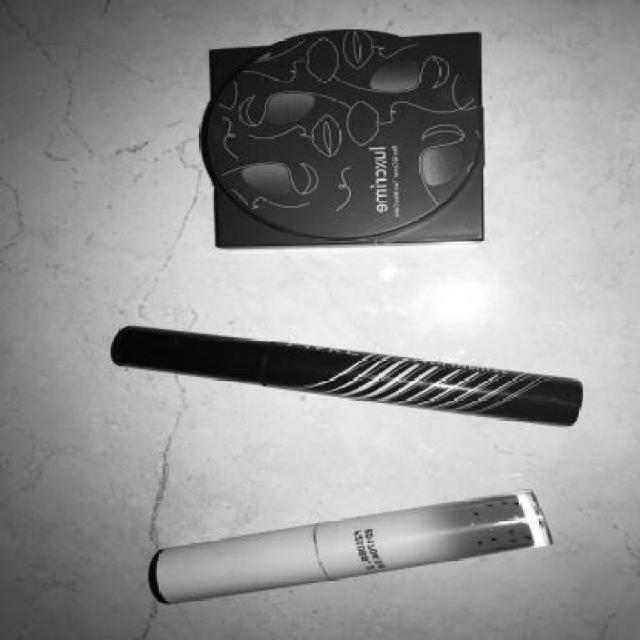lipstick: (67, 478, 581, 630)
